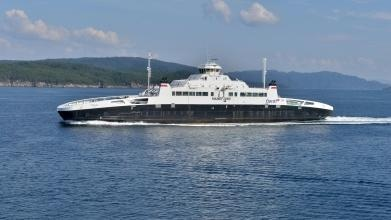yacht: (50, 68, 332, 126)
